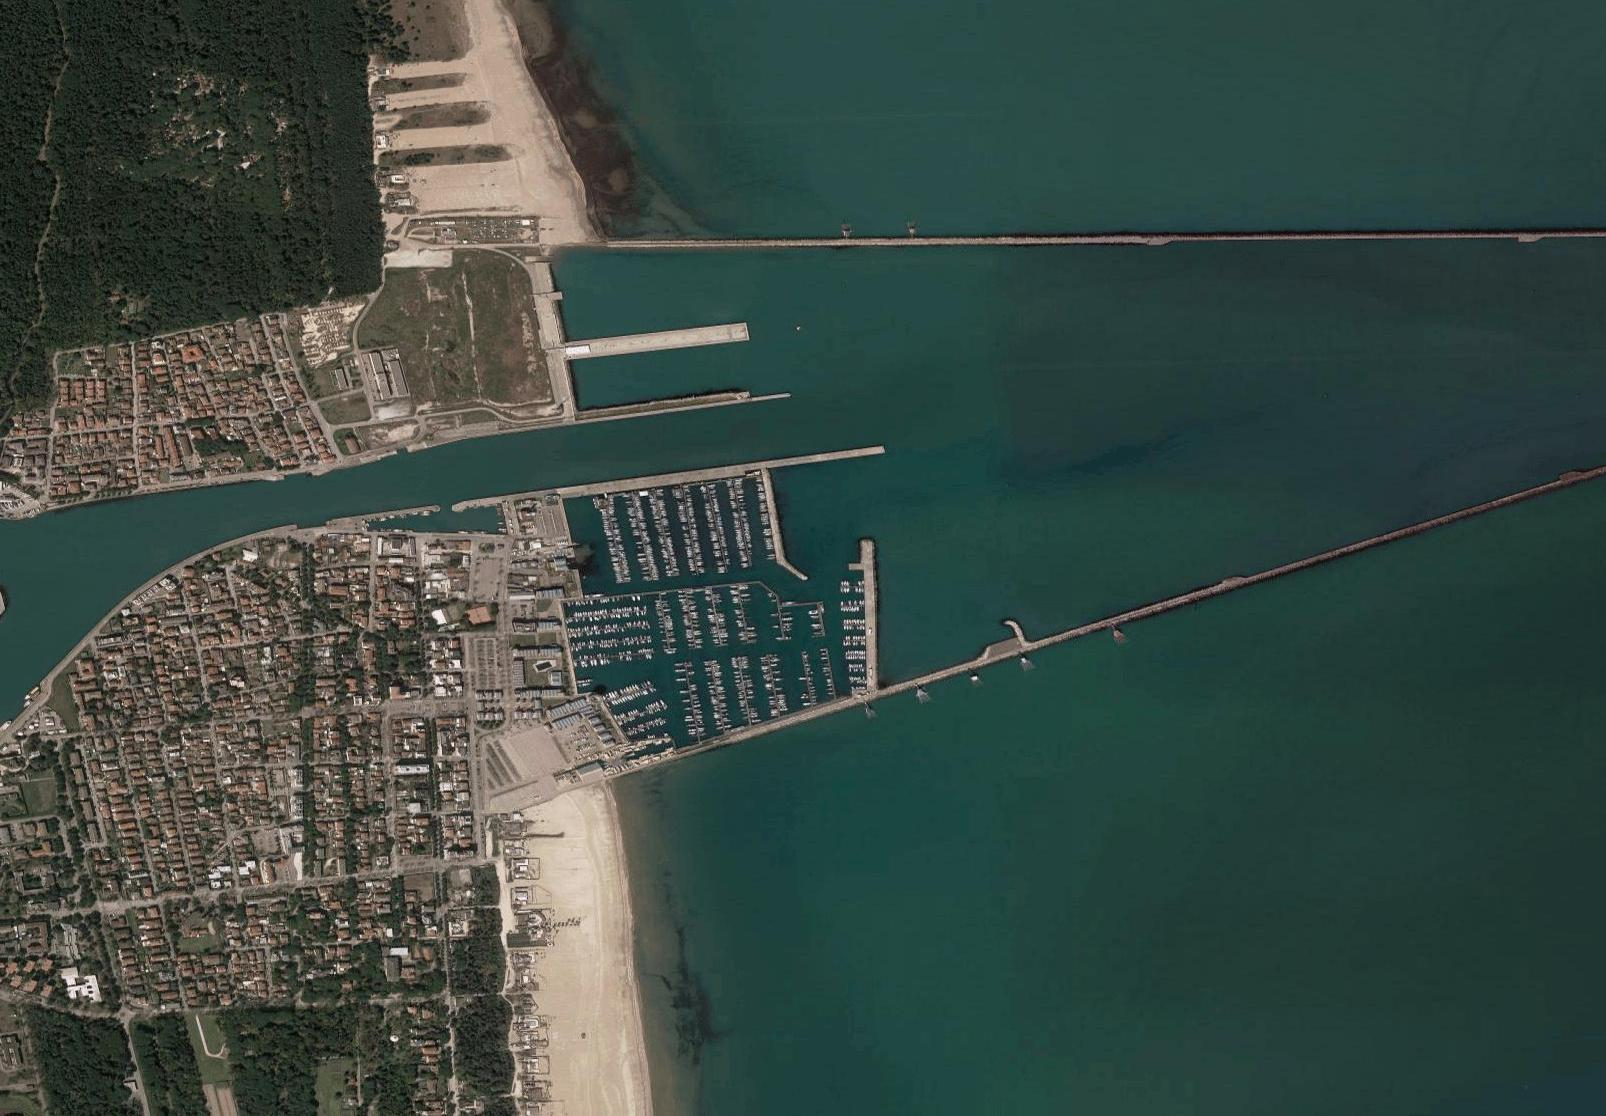harbor: (481, 433, 926, 827)
